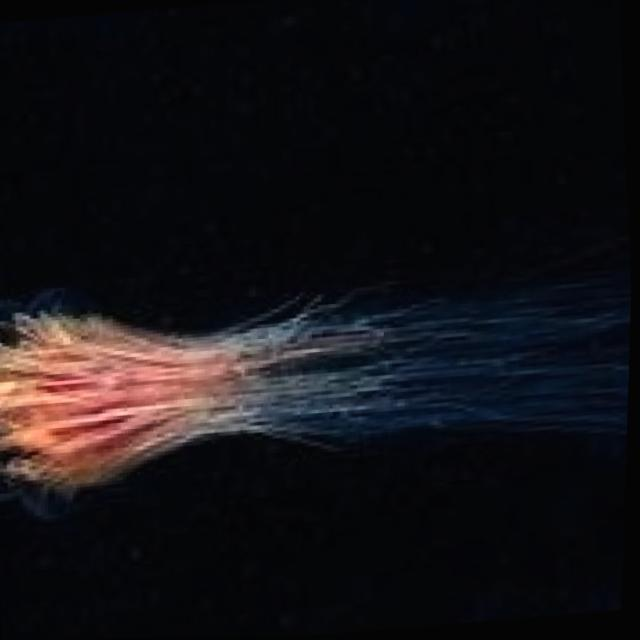Jellyfish: (0, 251, 634, 511)
